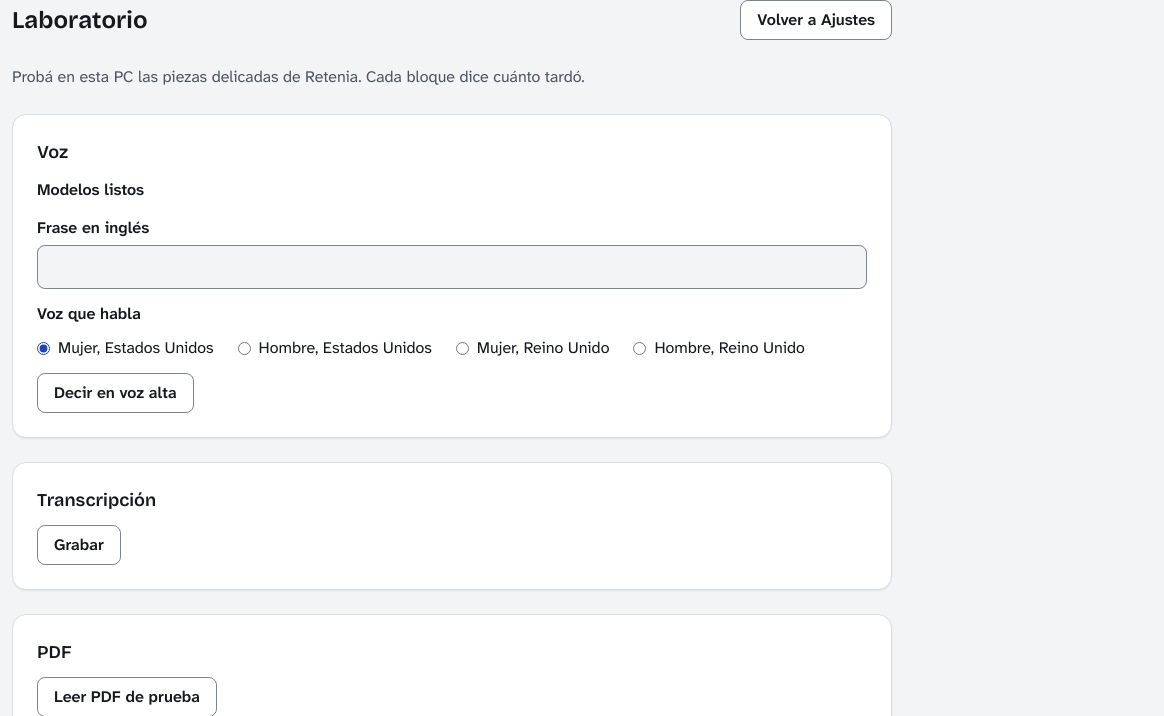
Test case: Laboratorio › [CA-026] «Grabar» y «Detener» muestran «Entendí: “good morning”» y un campo para corregir el texto (simulado)
This screenshot has width=1164, height=716.
Click the button "Grabar": x=79, y=545 [37, 525, 121, 565]
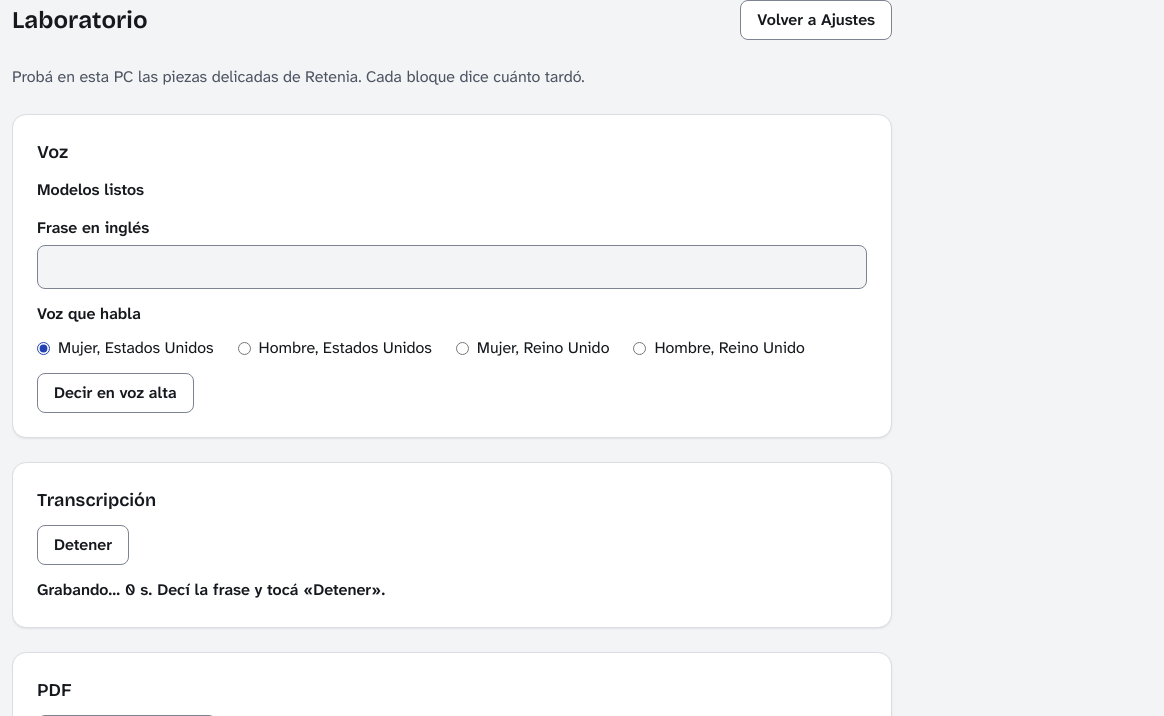
Click the button "Detener": x=83, y=545 [37, 525, 129, 565]
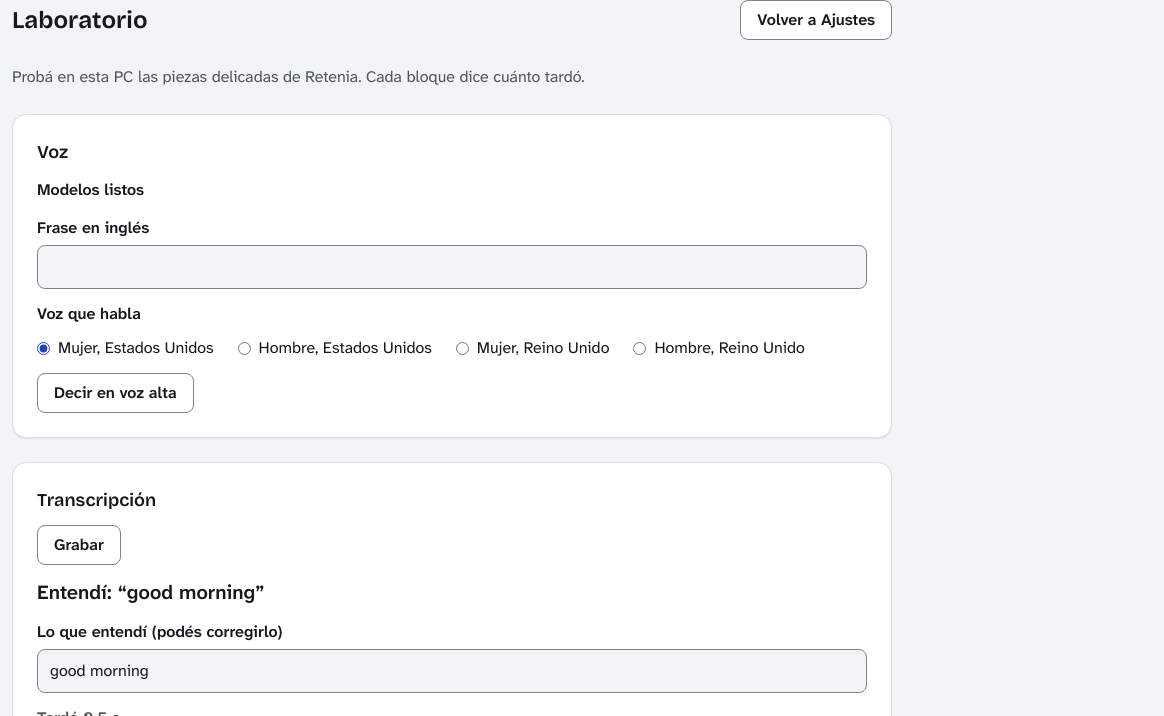
Check: the text "Entendí: “good morning”" is shown, box [37, 579, 264, 605]
Check: the field labelled "Lo que entendí (podés corregirlo)" holds "good morning"
Replace the text in the field labelled "Lo que entendí (podés corregirlo)" with "good mornings": x=452, y=671 [37, 649, 867, 693]
(page scrolled)
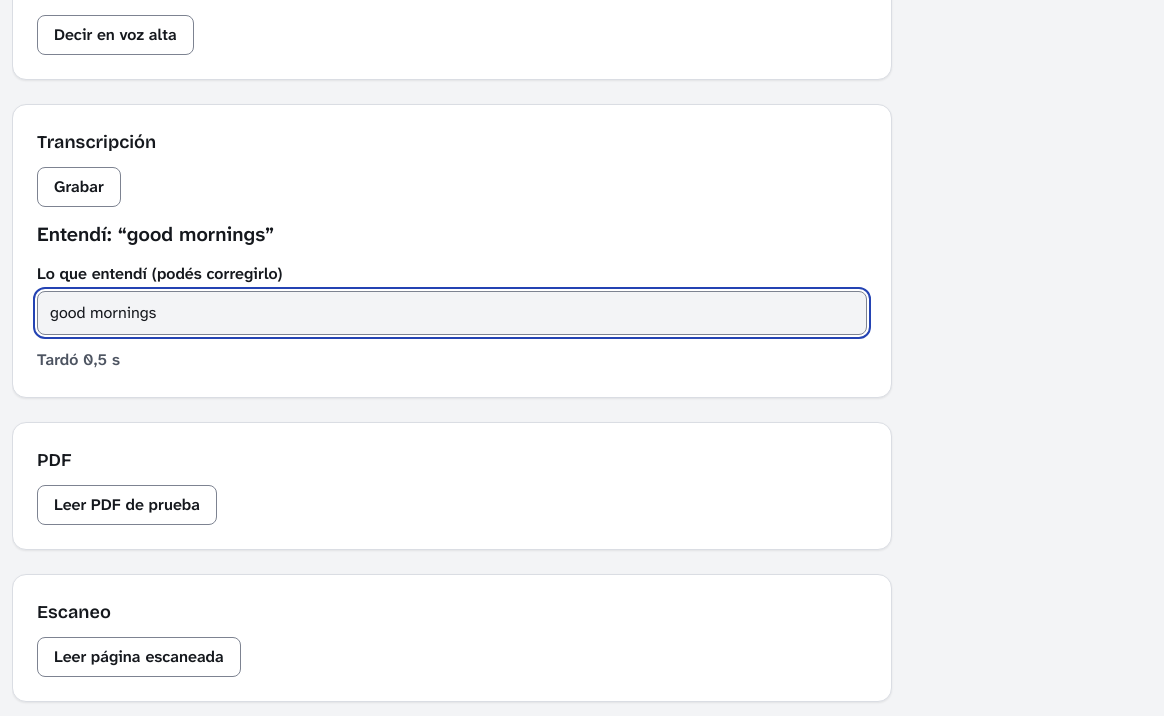
Check: the text "Tardó 0,5 s" is shown, box [37, 349, 120, 370]
Check: the text "Entendí: “good mornings”" is shown, box [37, 221, 274, 247]
